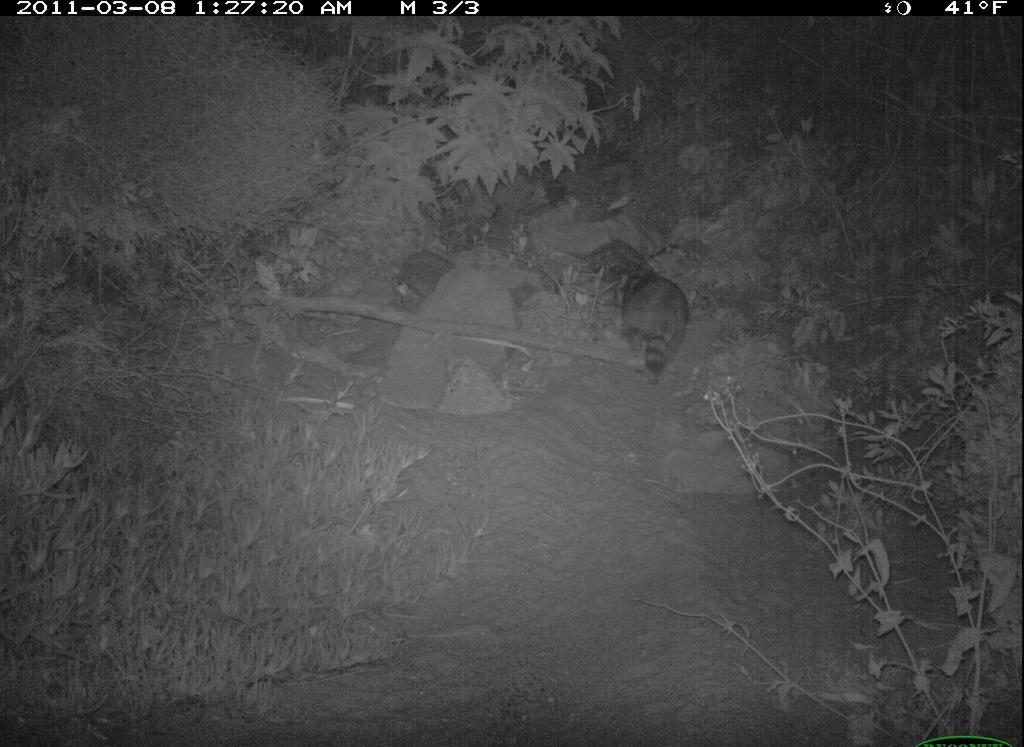raccoon: (609, 258, 697, 391)
